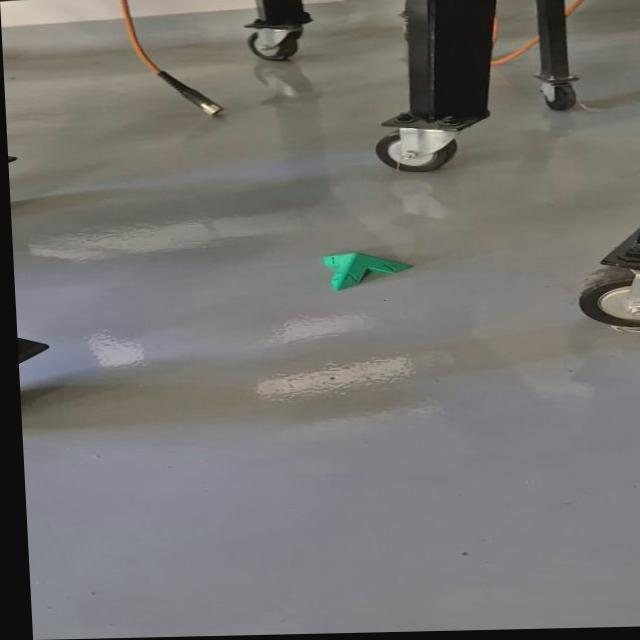eje: (321, 250, 417, 292)
